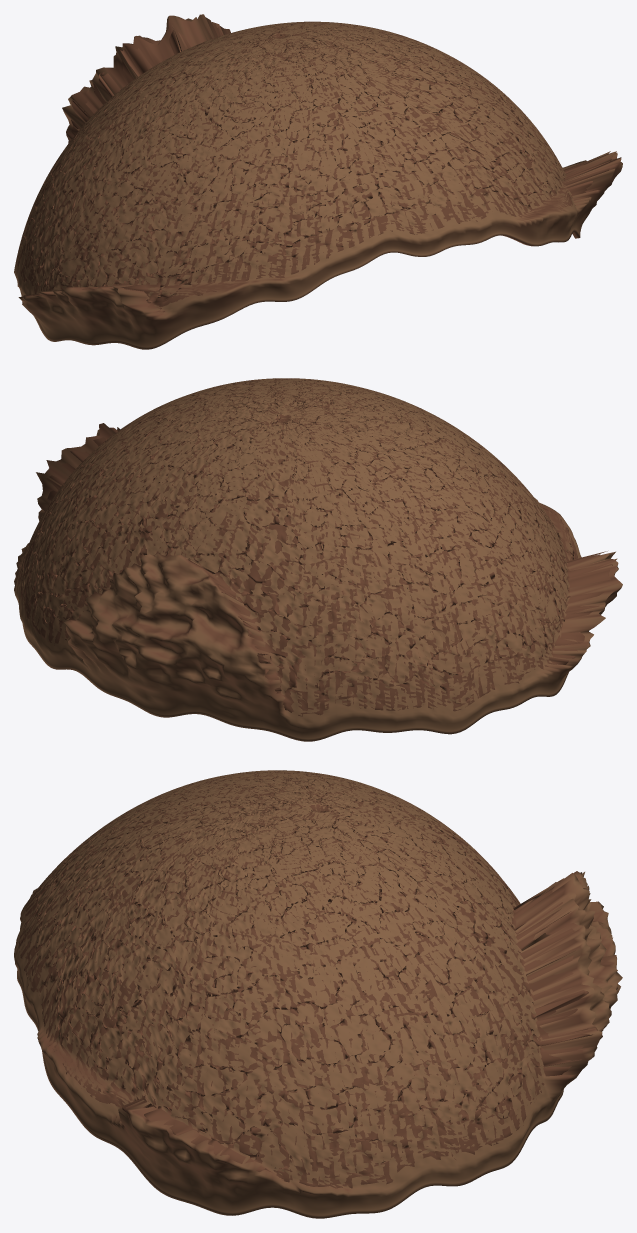
The model's file is Highlights-723f67051610252-hair.glb.
3 views of the same model, one above another, from view 1: azimuth 30°, elevation 25°; view 2: azimuth 150°, elevation 25°; view 3: azimuth 270°, elevation 25° (orthographic). The views are drawn at different scales.
Parts seen in each view (by area): view 1: 226 hair / Hair252 / dense natural coil groups.001; view 2: 226 hair / Hair252 / dense natural coil groups.001; view 3: 226 hair / Hair252 / dense natural coil groups.001.
Part boxes in pixels (<box>): 226 hair / Hair252 / dense natural coil groups.001: <box>14,14,622,349</box>; 226 hair / Hair252 / dense natural coil groups.001: <box>14,378,622,741</box>; 226 hair / Hair252 / dense natural coil groups.001: <box>14,770,622,1218</box>.
Size of the model in its own units: 1.09 by 0.4183 by 0.8446.
Materials: 1 (1 with a texture image).
